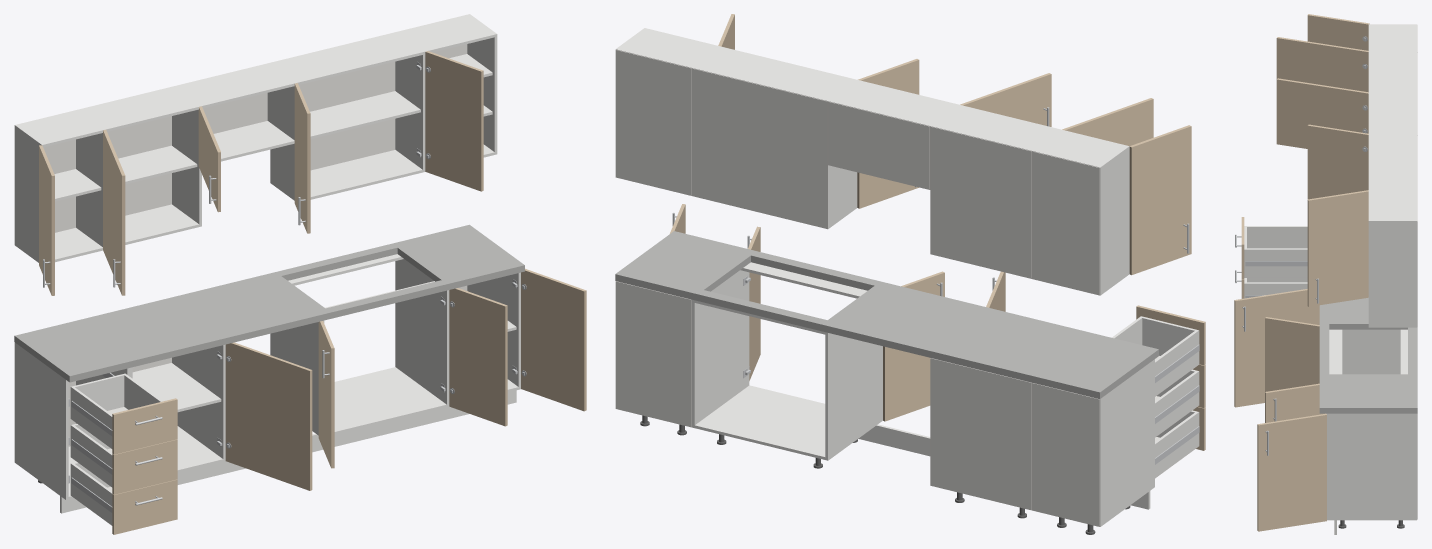
The model's file is kitchen_straight_open.glb.
3 views of the same model, side by side, from view 1: azimuth 30°, elevation 25°; view 2: azimuth 150°, elevation 25°; view 3: azimuth 270°, elevation 25° (orthographic). The views are drawn at different scales.
Visible parts, largest first — view 1: 50:countertop, 32:base[1].doors.door[1], 47:base[4].doors.door[1], 78:wall[3].doors.door[2], 39:base[3].doors.door[2], 1:base[0].side.left, 34:base[3].side.right, 75:wall[3].back, 35:base[3].bottom, 74:wall[3].top, 26:base[1].side.right, 62:wall[1].back (+39 smaller); view 2: 50:countertop, 75:wall[3].back, 62:wall[1].back, 30:base[1].back, 45:base[4].back, 83:wall[4].back, 55:wall[0].back, 6:base[0].back, 57:wall[0].doors.door[1], 1:base[0].side.left, 69:wall[2].back, 34:base[3].side.right (+21 smaller); view 3: 41:base[4].side.right, 47:base[4].doors.door[1], 78:wall[3].doors.door[2], 50:countertop, 80:wall[4].side.right, 32:base[1].doors.door[1], 64:wall[1].doors.door[1], 70:wall[2].doors.door[1], 77:wall[3].doors.door[1], 38:base[3].doors.door[1], 33:base[3].side.left, 74:wall[3].top (+14 smaller).
Part boxes in pixels (<box>): 50:countertop: <box>14,224,524,382</box>; 32:base[1].doors.door[1]: <box>225,342,312,490</box>; 47:base[4].doors.door[1]: <box>521,268,586,411</box>; 78:wall[3].doors.door[2]: <box>425,51,483,191</box>; 39:base[3].doors.door[2]: <box>449,288,507,426</box>; 1:base[0].side.left: <box>14,342,68,499</box>; 34:base[3].side.right: <box>395,259,449,407</box>; 75:wall[3].back: <box>300,61,395,170</box>; 35:base[3].bottom: <box>334,367,446,434</box>; 74:wall[3].top: <box>273,32,422,84</box>; 26:base[1].side.right: <box>172,344,225,461</box>; 62:wall[1].back: <box>108,116,171,215</box>; 50:countertop: <box>615,231,1158,398</box>; 75:wall[3].back: <box>692,68,827,228</box>; 62:wall[1].back: <box>930,126,1031,278</box>; 30:base[1].back: <box>930,358,1031,510</box>; 45:base[4].back: <box>615,281,691,427</box>; 83:wall[4].back: <box>615,50,691,195</box>; 55:wall[0].back: <box>1032,151,1099,295</box>; 6:base[0].back: <box>1032,383,1099,526</box>; 57:wall[0].doors.door[1]: <box>1129,125,1191,275</box>; 1:base[0].side.left: <box>1100,359,1154,526</box>; 69:wall[2].back: <box>828,101,929,189</box>; 34:base[3].side.right: <box>692,270,749,427</box>; 41:base[4].side.right: <box>1326,413,1416,520</box>; 47:base[4].doors.door[1]: <box>1257,413,1326,531</box>; 78:wall[3].doors.door[2]: <box>1307,190,1368,306</box>; 50:countertop: <box>1319,297,1417,413</box>; 80:wall[4].side.right: <box>1368,220,1416,327</box>; 32:base[1].doors.door[1]: <box>1234,289,1319,407</box>; 64:wall[1].doors.door[1]: <box>1276,37,1368,148</box>; 70:wall[2].doors.door[1]: <box>1276,78,1368,136</box>; 77:wall[3].doors.door[1]: <box>1307,124,1368,199</box>; 38:base[3].doors.door[1]: <box>1265,317,1319,391</box>; 33:base[3].side.left: <box>1342,329,1400,374</box>; 74:wall[3].top: <box>1368,136,1416,188</box>.
Bounding box in the file's own units: 3.21 × 2.12 × 1.12.
